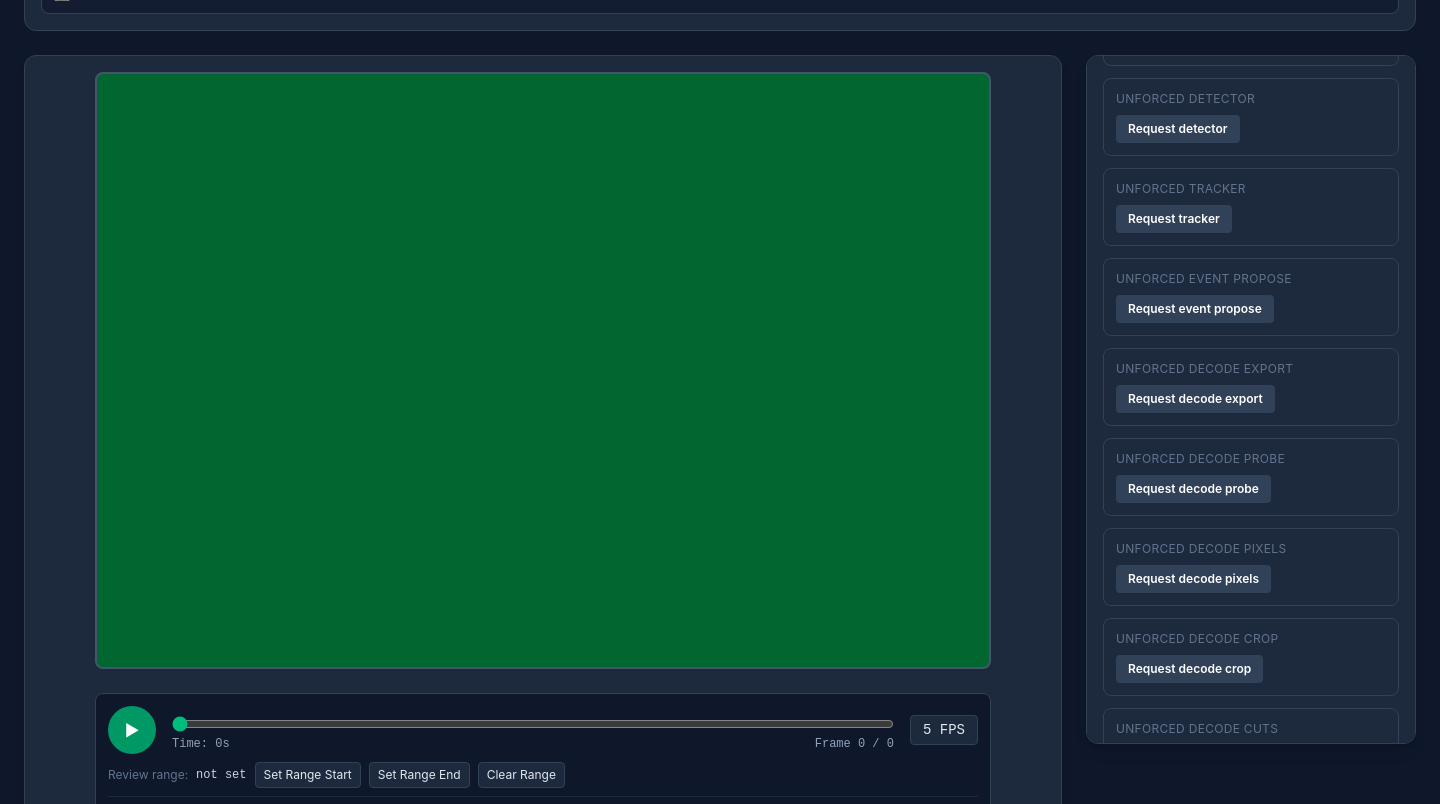
App leftover HTTP surfaces › posts decode export, decode probe, and decode pixels without leftover sourceUrl, ffmpeg default, or cuda
(page scrolled)
Click the button "Request decode export": click(1195, 399) [1116,385,1275,413]
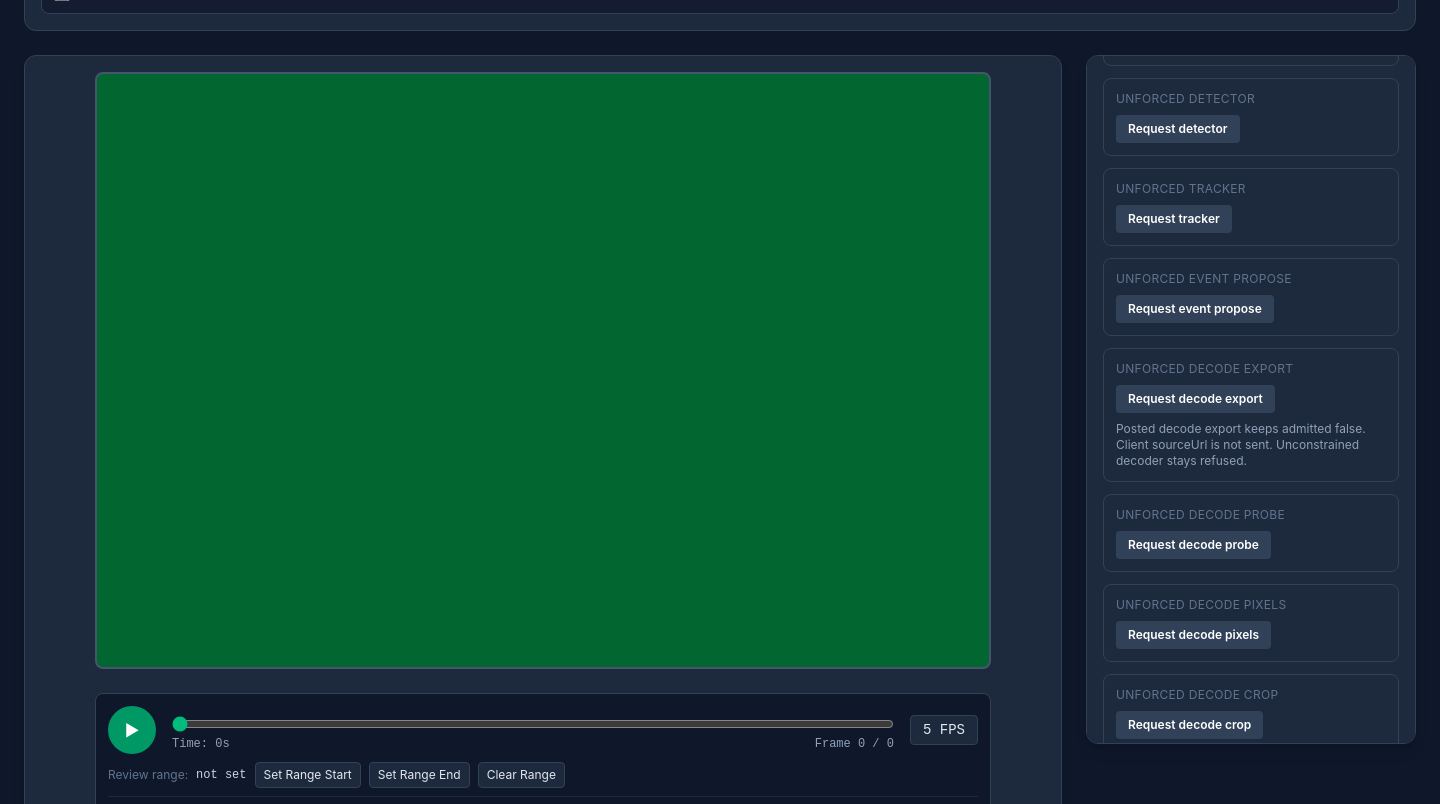
Click the button "Request decode probe": click(1193, 545) [1116,531,1271,559]
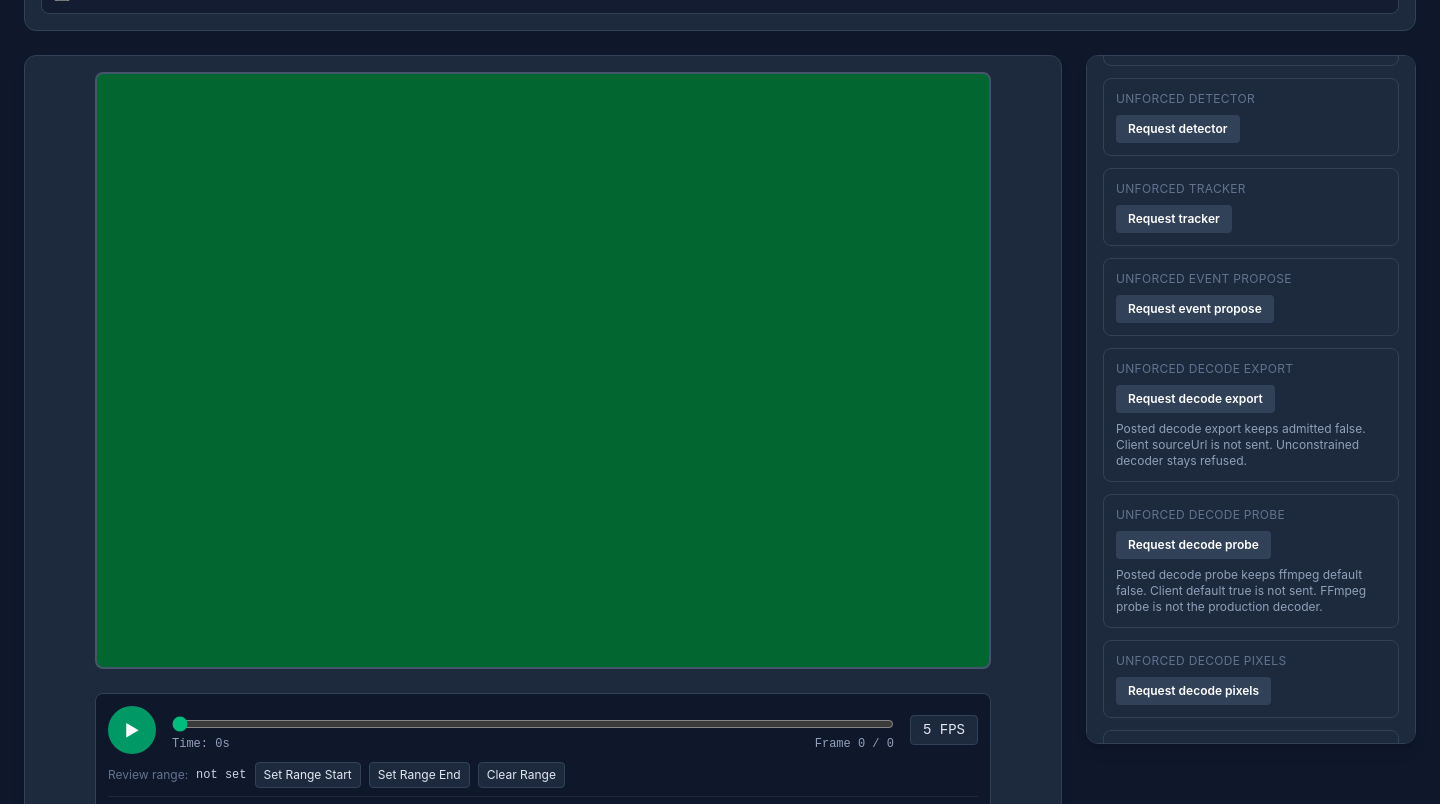
Click the button "Request decode pixels": click(1194, 691) [1116,677,1271,705]
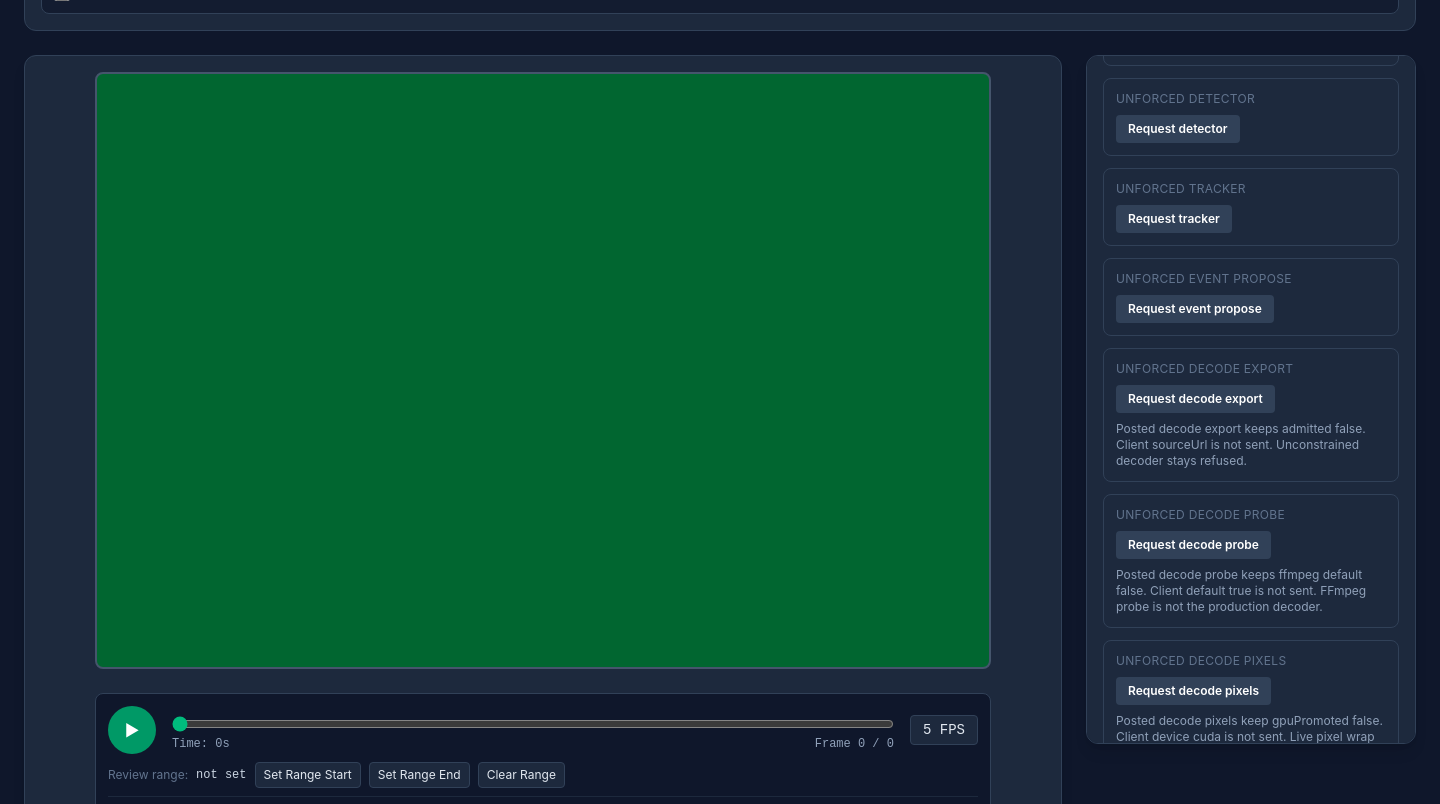
Expected: the text "unconstrained decoder stays refused" is shown, [1116,421,1366,468]
Expected: the text "ffmpeg probe is not the production decoder" is shown, [1116,567,1366,614]
Expected: the text "live pixel wrap stays on cpu" is shown, [1116,713,1383,744]
